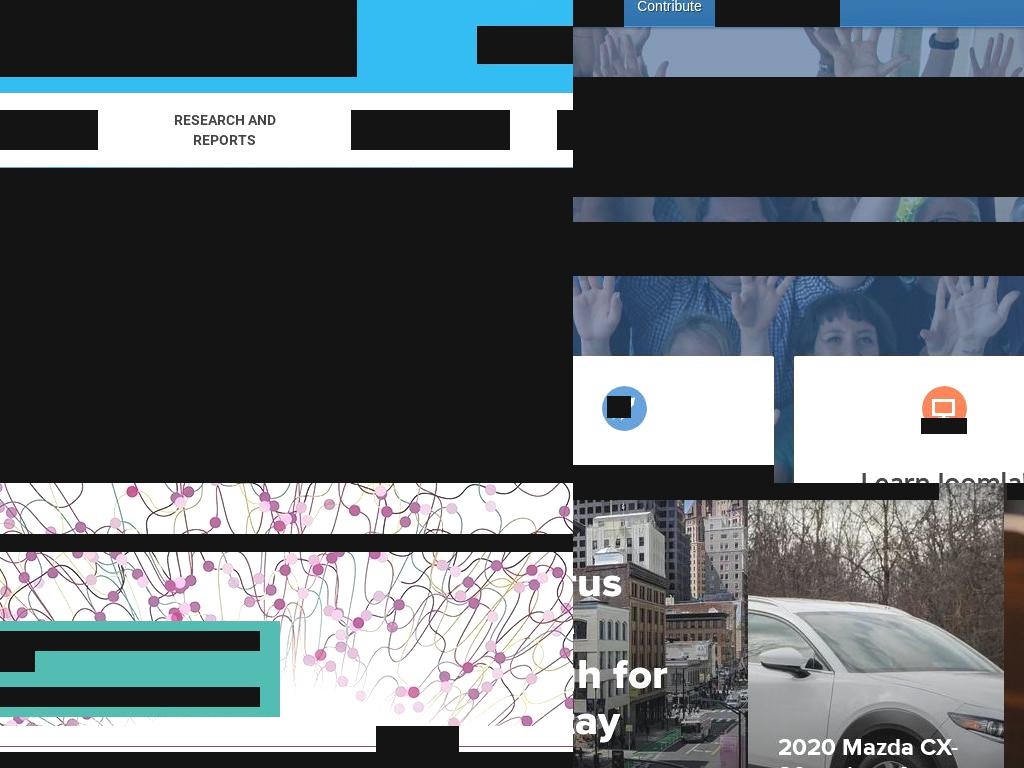button: (748, 483, 1004, 768), (573, 483, 748, 768), (0, 0, 357, 77), (0, 534, 573, 552), (376, 673, 459, 765), (376, 523, 459, 573), (376, 573, 459, 623), (376, 623, 459, 673), (477, 26, 573, 64), (715, 0, 840, 27), (376, 483, 459, 523), (624, 0, 715, 27), (765, 483, 854, 500), (678, 483, 765, 500), (854, 483, 939, 500), (573, 0, 624, 27), (607, 483, 678, 500), (939, 483, 1007, 500), (601, 418, 647, 434), (921, 418, 967, 434)
heading: (573, 77, 1024, 197), (573, 561, 668, 768), (0, 752, 573, 768), (778, 734, 958, 768), (794, 465, 1024, 483), (573, 465, 774, 483)
image: (0, 168, 573, 483), (0, 483, 573, 726), (748, 483, 1004, 768), (573, 483, 748, 768)
link: (145, 110, 304, 150), (351, 110, 510, 150), (0, 110, 98, 150)
text: (573, 222, 1024, 276), (0, 47, 357, 66), (0, 631, 260, 651), (0, 687, 260, 707), (490, 37, 573, 53), (607, 396, 631, 421), (927, 396, 951, 421)
